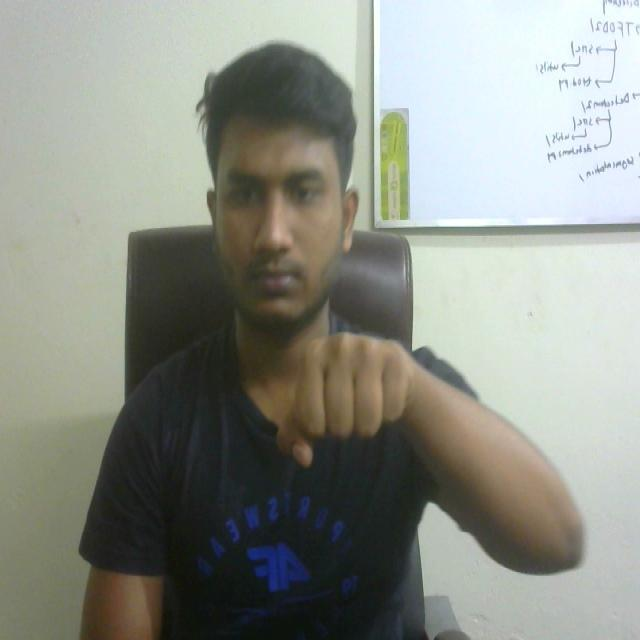I: (276, 315, 431, 481)
